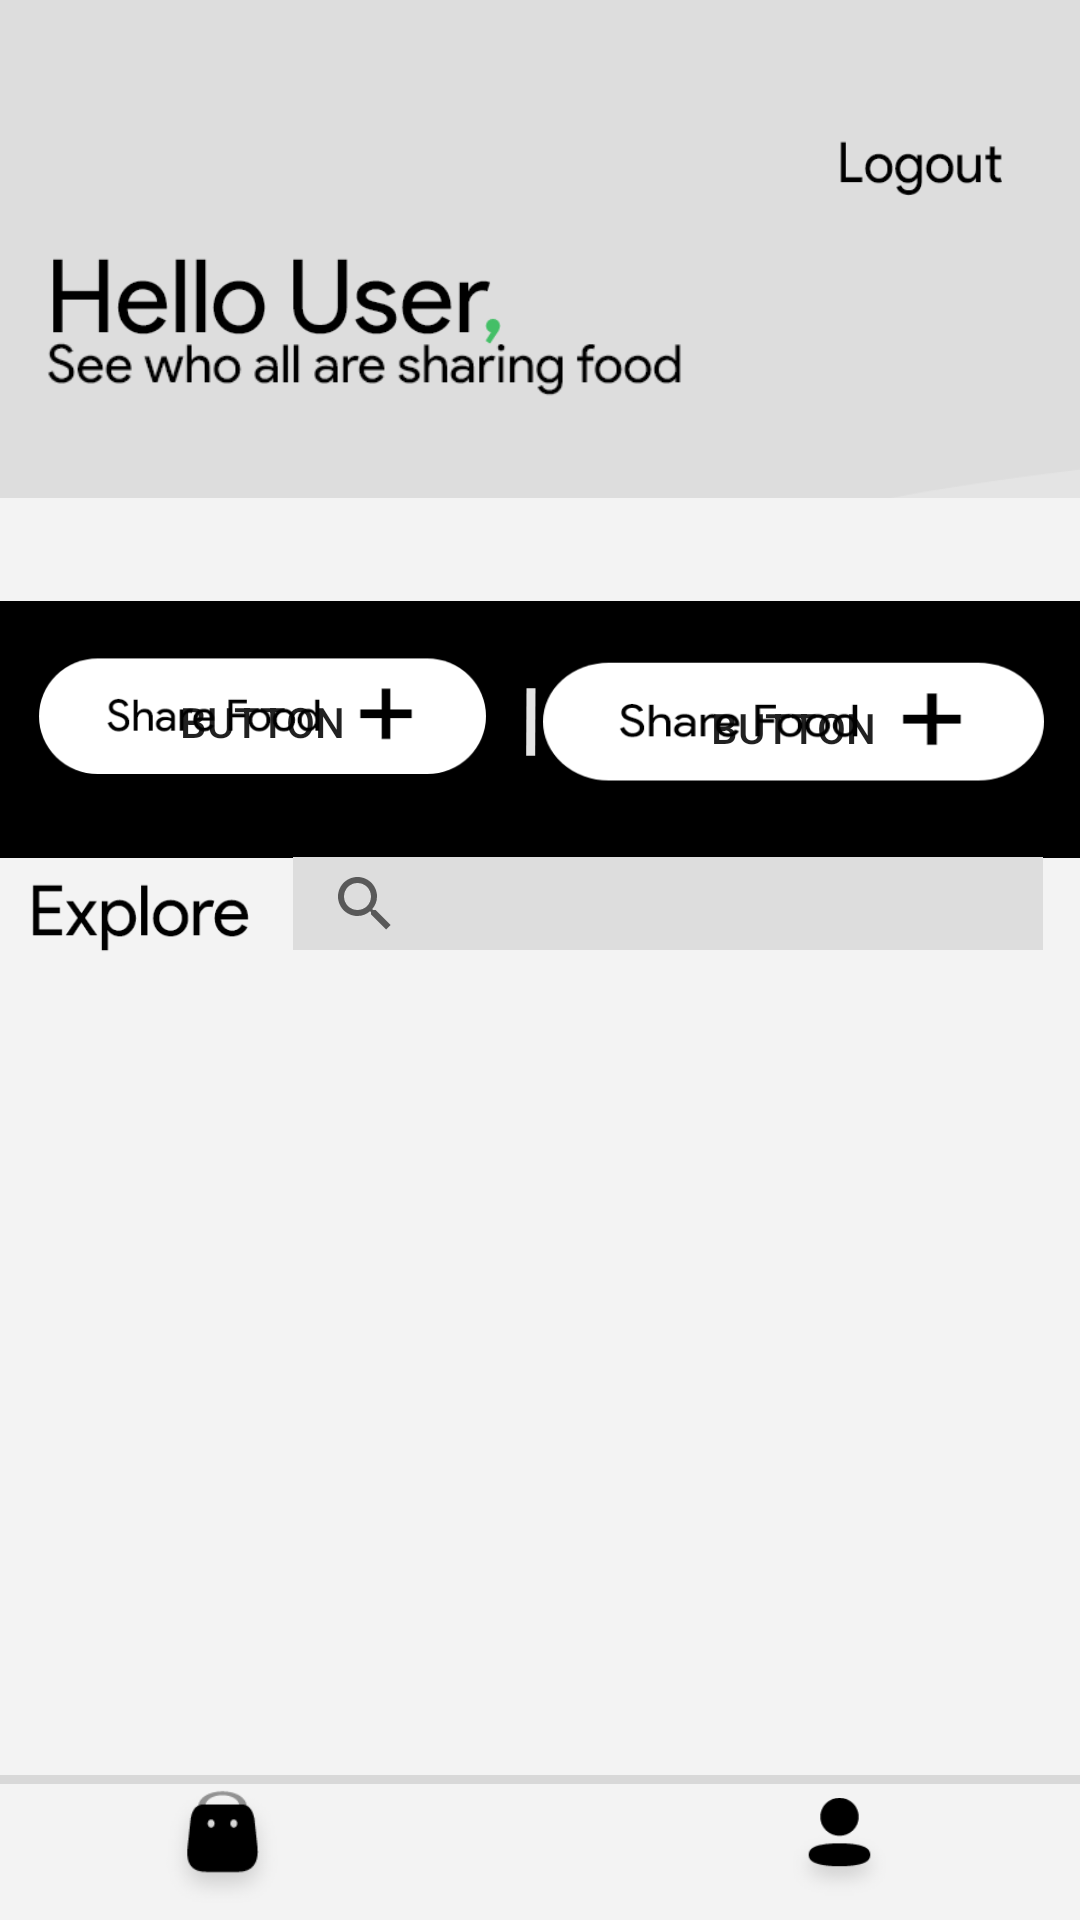

Screen size 1080px×1920px. Icon name, then its center in pixels as [x,y]:
bag: [223,1835]
profile: [839,1835]
